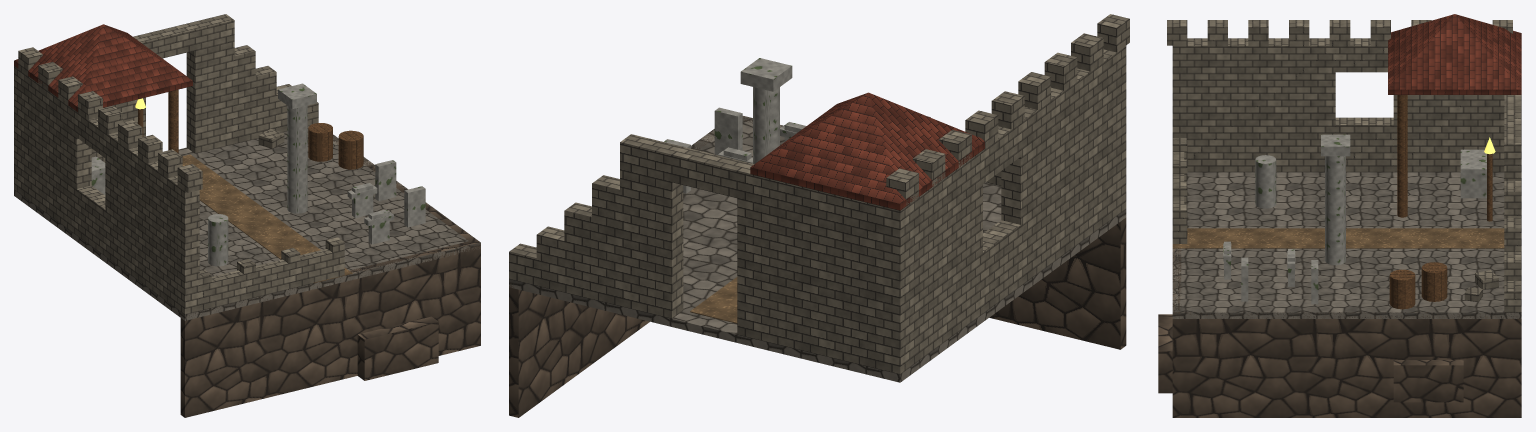
File: tristram_courtyard.glb
The picture shows the model from 3 angles, left to right: view 1: azimuth 30°, elevation 25°; view 2: azimuth 150°, elevation 25°; view 3: azimuth 270°, elevation 25°; orthographic projection. The views are drawn at different scales.
Parts seen in each view (by area): view 1: cliff_south, floor_flagstones, wall_west_b, wall_west_a, roof_shrine, wall_north_b, floor_path_dirt, wall_balustrade, cliff_south_outcrop, pillar_whole, wall_north_ruin_0, wall_west_sill (+28 smaller); view 2: wall_north_a, wall_west_b, wall_west_a, floor_flagstones, roof_shrine, wall_north_b, cliff_east, cliff_south, wall_north_ruin_0, wall_west_sill, wall_north_lintel, wall_north_ruin_1 (+17 smaller); view 3: floor_flagstones, cliff_east, wall_west_b, roof_shrine, wall_west_a, floor_path_dirt, cliff_east_outcrop, wall_west_sill, pillar_whole, wall_west_lintel, shrine_post, altar (+25 smaller).
Part boxes in pixels (<box>): cliff_south: <box>180,239,480,417</box>; floor_flagstones: <box>14,126,480,320</box>; wall_west_b: <box>105,132,199,314</box>; wall_west_a: <box>14,66,91,234</box>; roof_shrine: <box>14,24,192,106</box>; wall_north_b: <box>186,14,234,153</box>; floor_path_dirt: <box>182,154,352,283</box>; wall_balustrade: <box>199,249,332,310</box>; cliff_south_outcrop: <box>357,316,438,380</box>; pillar_whole: <box>287,105,307,213</box>; wall_north_ruin_0: <box>234,45,255,143</box>; wall_west_sill: <box>76,185,105,255</box>; wall_north_a: <box>737,162,907,374</box>; wall_west_b: <box>1001,45,1126,285</box>; wall_west_a: <box>880,150,982,374</box>; floor_flagstones: <box>509,116,1126,382</box>; roof_shrine: <box>751,92,984,203</box>; wall_north_b: <box>620,134,683,318</box>; cliff_east: <box>509,129,714,417</box>; cliff_south: <box>743,116,1126,349</box>; wall_north_ruin_0: <box>592,175,619,305</box>; wall_west_sill: <box>983,220,1020,313</box>; wall_north_lintel: <box>672,147,747,197</box>; wall_north_ruin_1: <box>564,202,591,299</box>; floor_flagstones: <box>1172,172,1521,318</box>; cliff_east: <box>1172,312,1521,417</box>; wall_west_b: <box>1172,38,1335,172</box>; roof_shrine: <box>1388,14,1521,89</box>; wall_west_a: <box>1393,95,1504,172</box>; floor_path_dirt: <box>1172,228,1504,248</box>; cliff_east_outcrop: <box>1393,360,1463,402</box>; wall_west_sill: <box>1335,117,1393,172</box>; pillar_whole: <box>1325,156,1345,265</box>; wall_west_lintel: <box>1335,38,1387,72</box>; shrine_post: <box>1397,95,1407,217</box>; altar: <box>1460,149,1486,198</box>.
Size of the model in its own units: 6.22 by 5.4 by 6.25.
8 materials, 8 textured.
